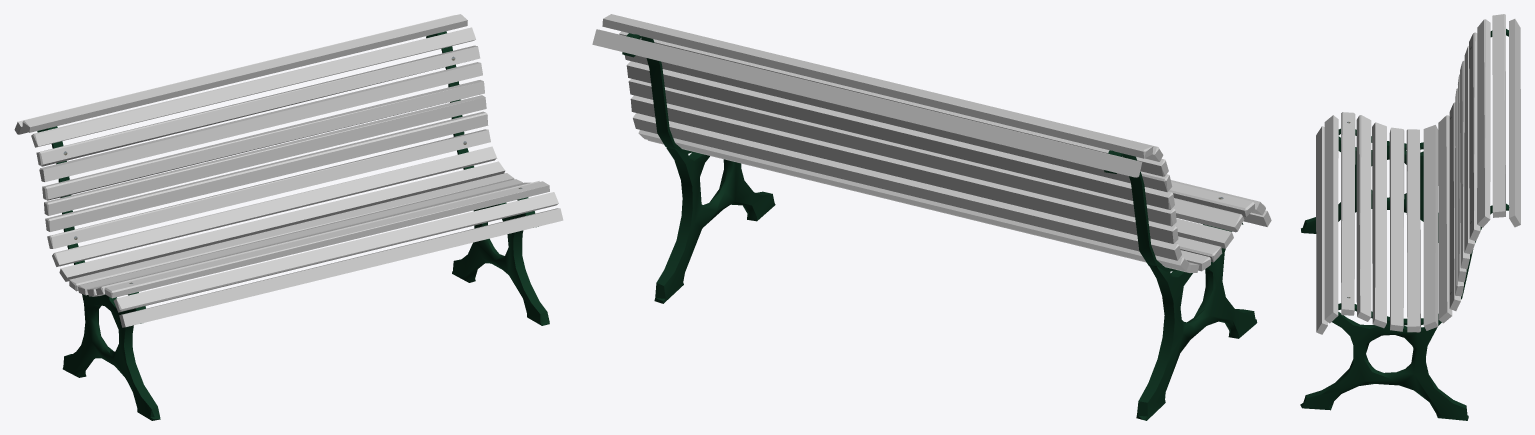
Rendered from Bench_CLean.fbx.
3 renders of one model, left to right at view 1: azimuth 30°, elevation 25°; view 2: azimuth 150°, elevation 25°; view 3: azimuth 270°, elevation 25°, orthographic. The views are drawn at different scales.
Parts seen in each view (by area): view 1: Bench Clean; view 2: Bench Clean; view 3: Bench Clean.
Part boxes in pixels (bbox=[...]): Bench Clean: bbox=[14, 14, 563, 420]; Bench Clean: bbox=[592, 14, 1271, 420]; Bench Clean: bbox=[1300, 14, 1520, 420].
Size of the model in its own units: 112 by 58.31 by 53.03.
